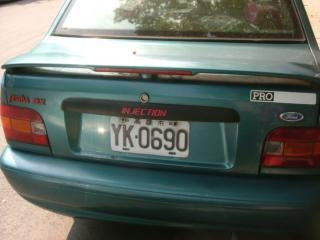plate: (108, 112, 192, 162)
